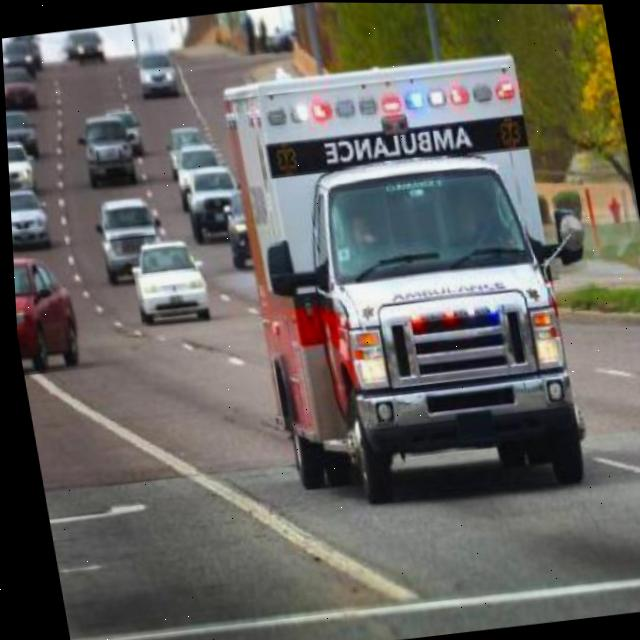emergency: (214, 43, 590, 517)
